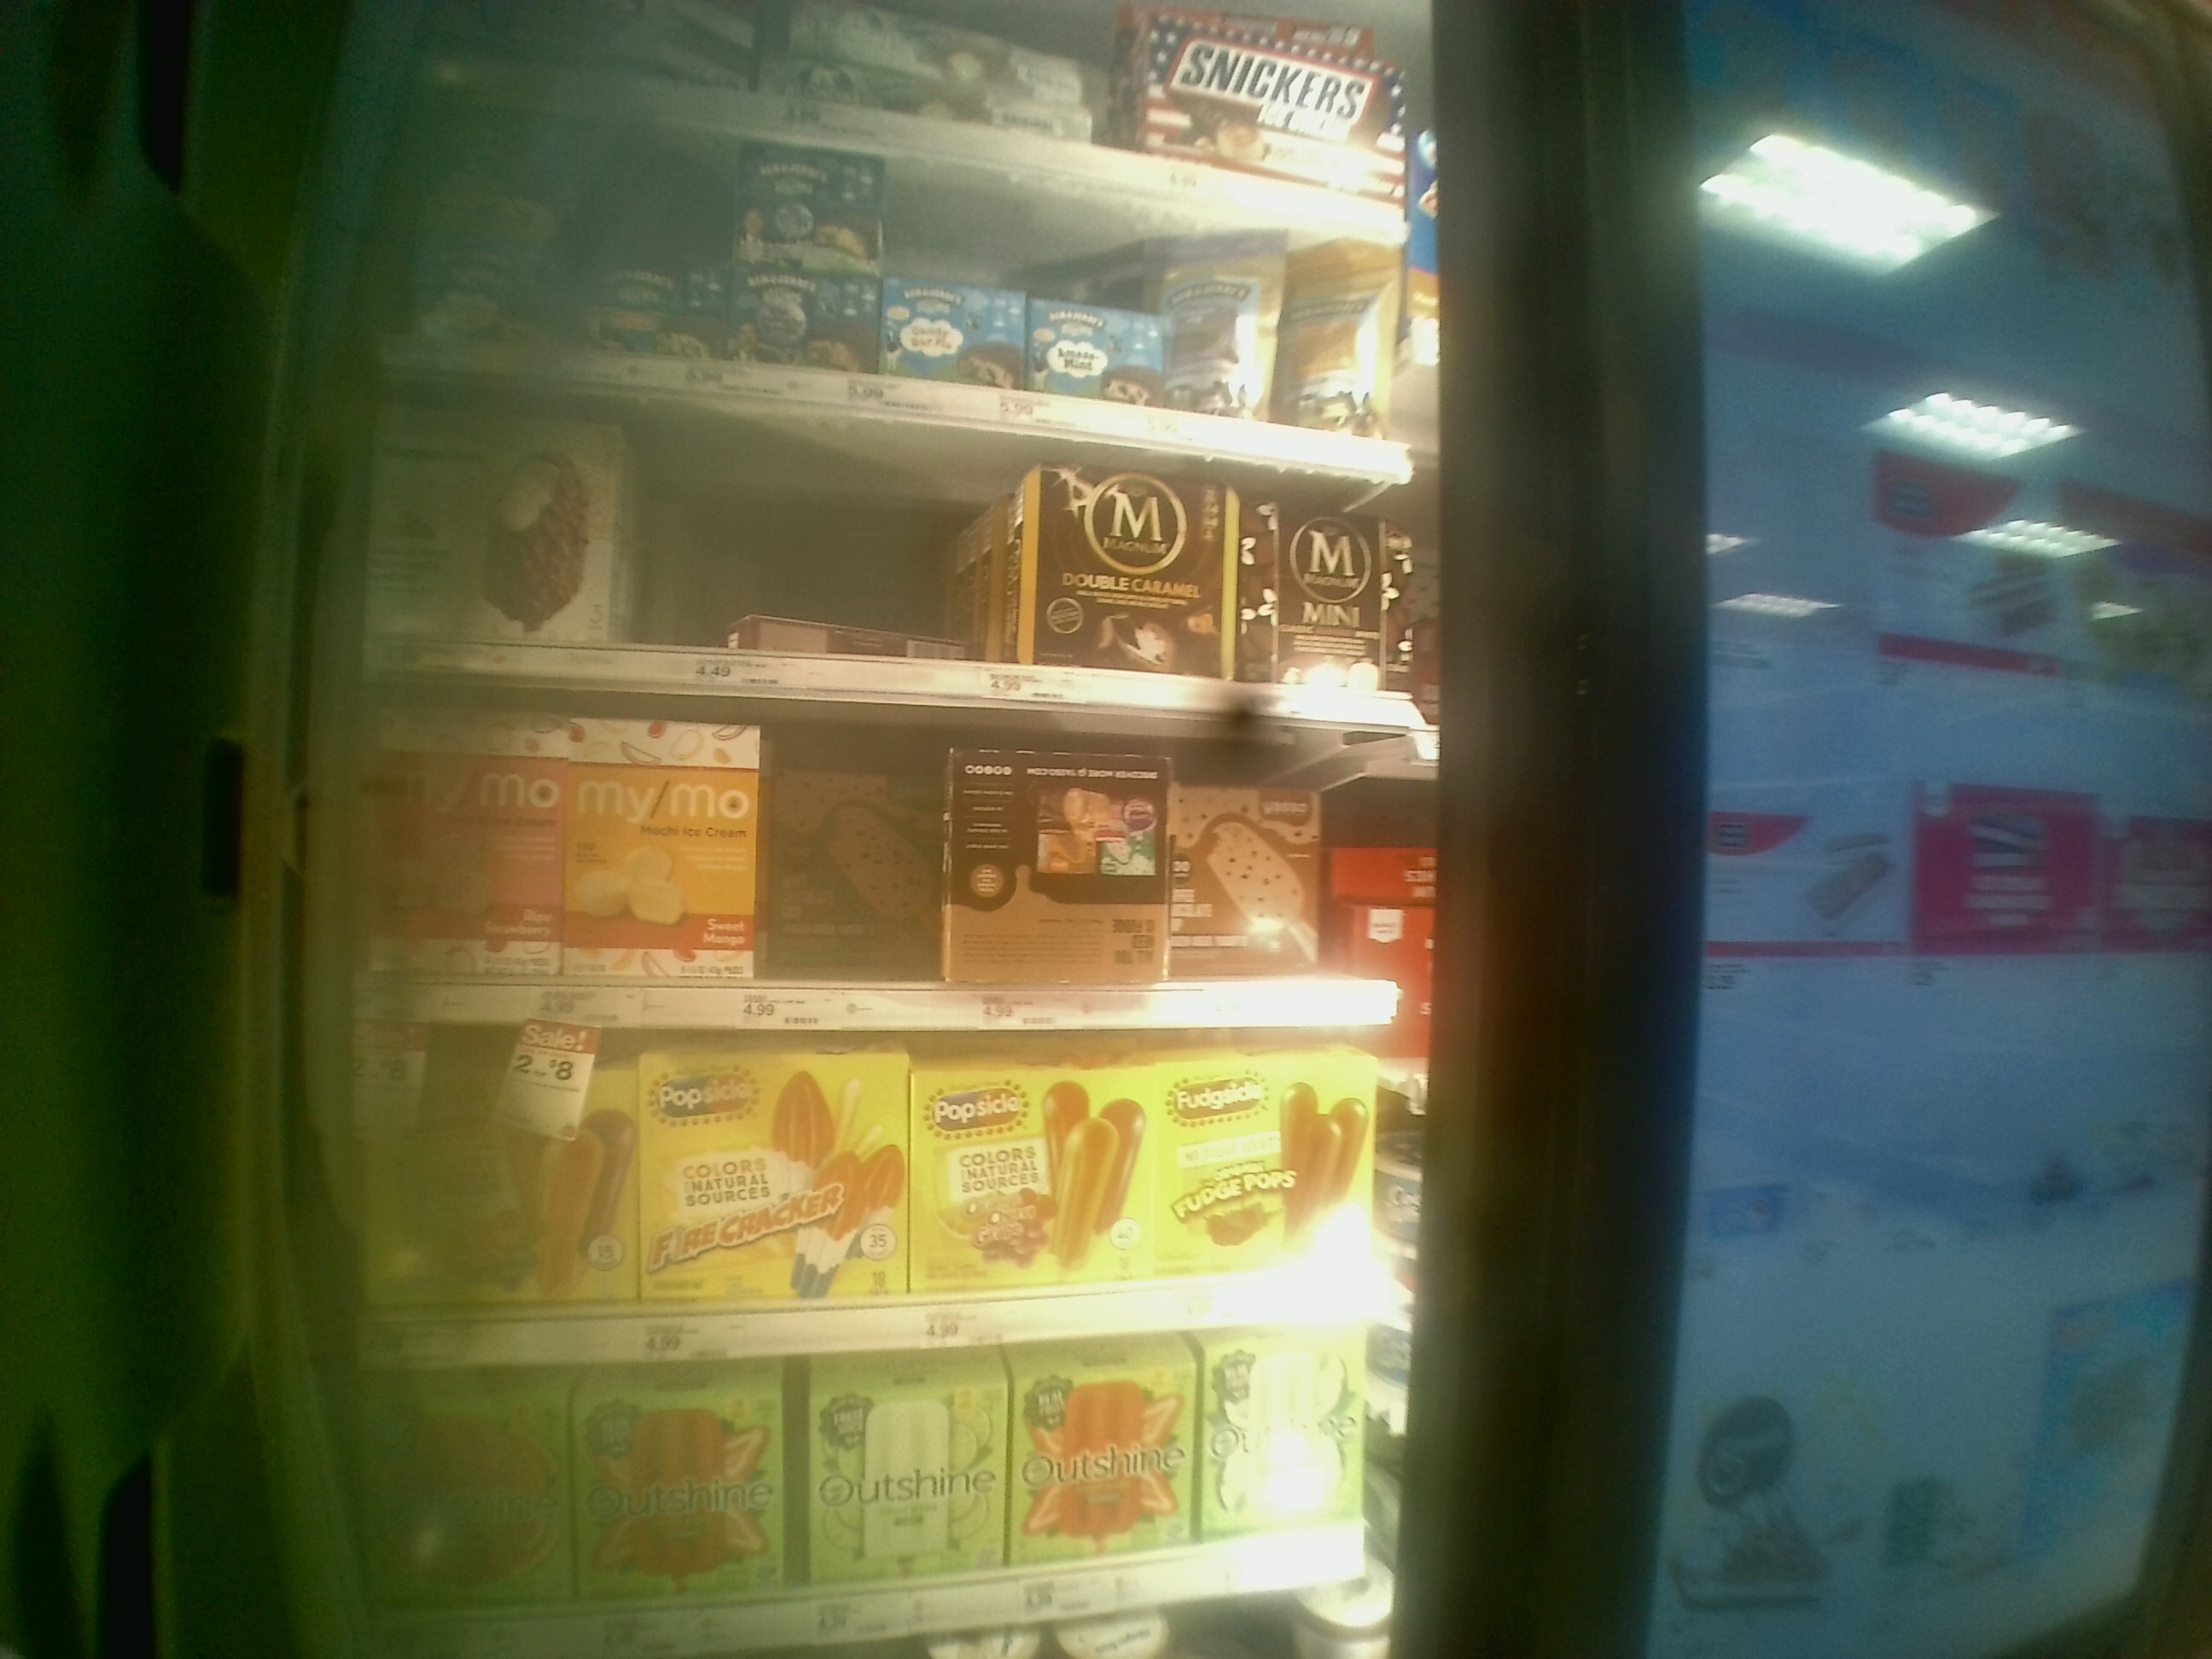shelf: (343, 676, 1447, 1030), (334, 1030, 1420, 1368)
